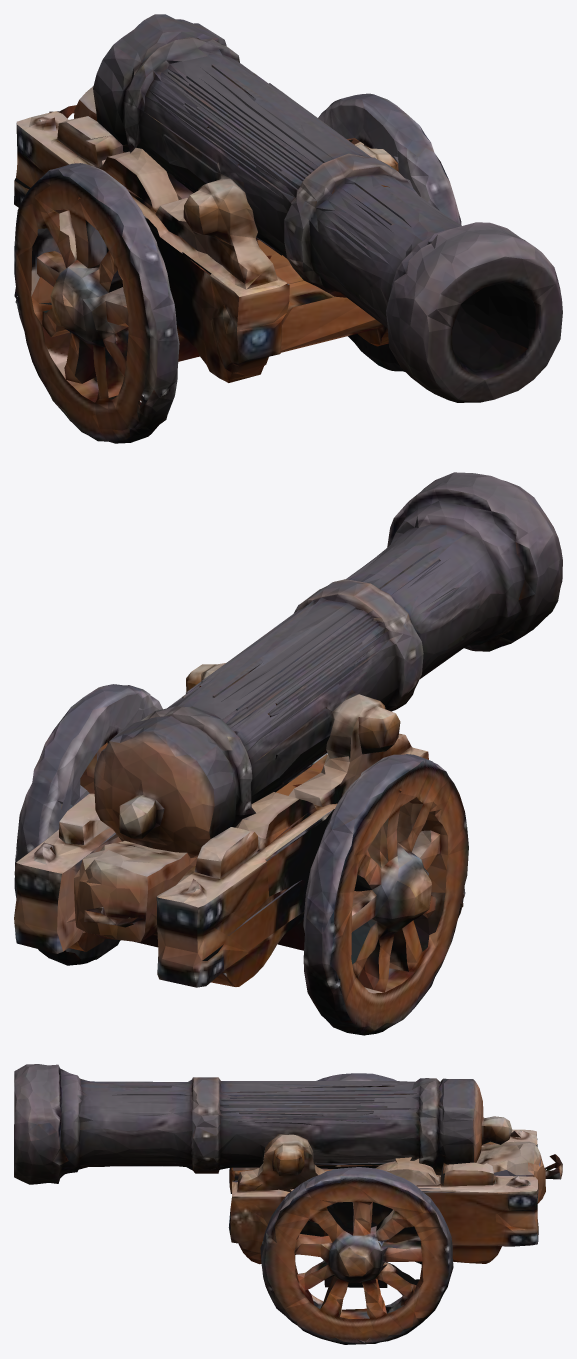
File: field_cannon_1116.glb
3 views of the same model, one above another, from view 1: azimuth 30°, elevation 25°; view 2: azimuth 150°, elevation 25°; view 3: azimuth 270°, elevation 25° (orthographic). The views are drawn at different scales.
Visible parts, largest first — view 1: world; view 2: world; view 3: world.
Part boxes in pixels (x1,y1,x2,y2): world: (14, 14, 562, 443); world: (14, 472, 562, 1035); world: (14, 1064, 562, 1344).
Size of the model in its own units: 1.15 by 1 by 2.2.
Materials: 1 (1 with a texture image).
